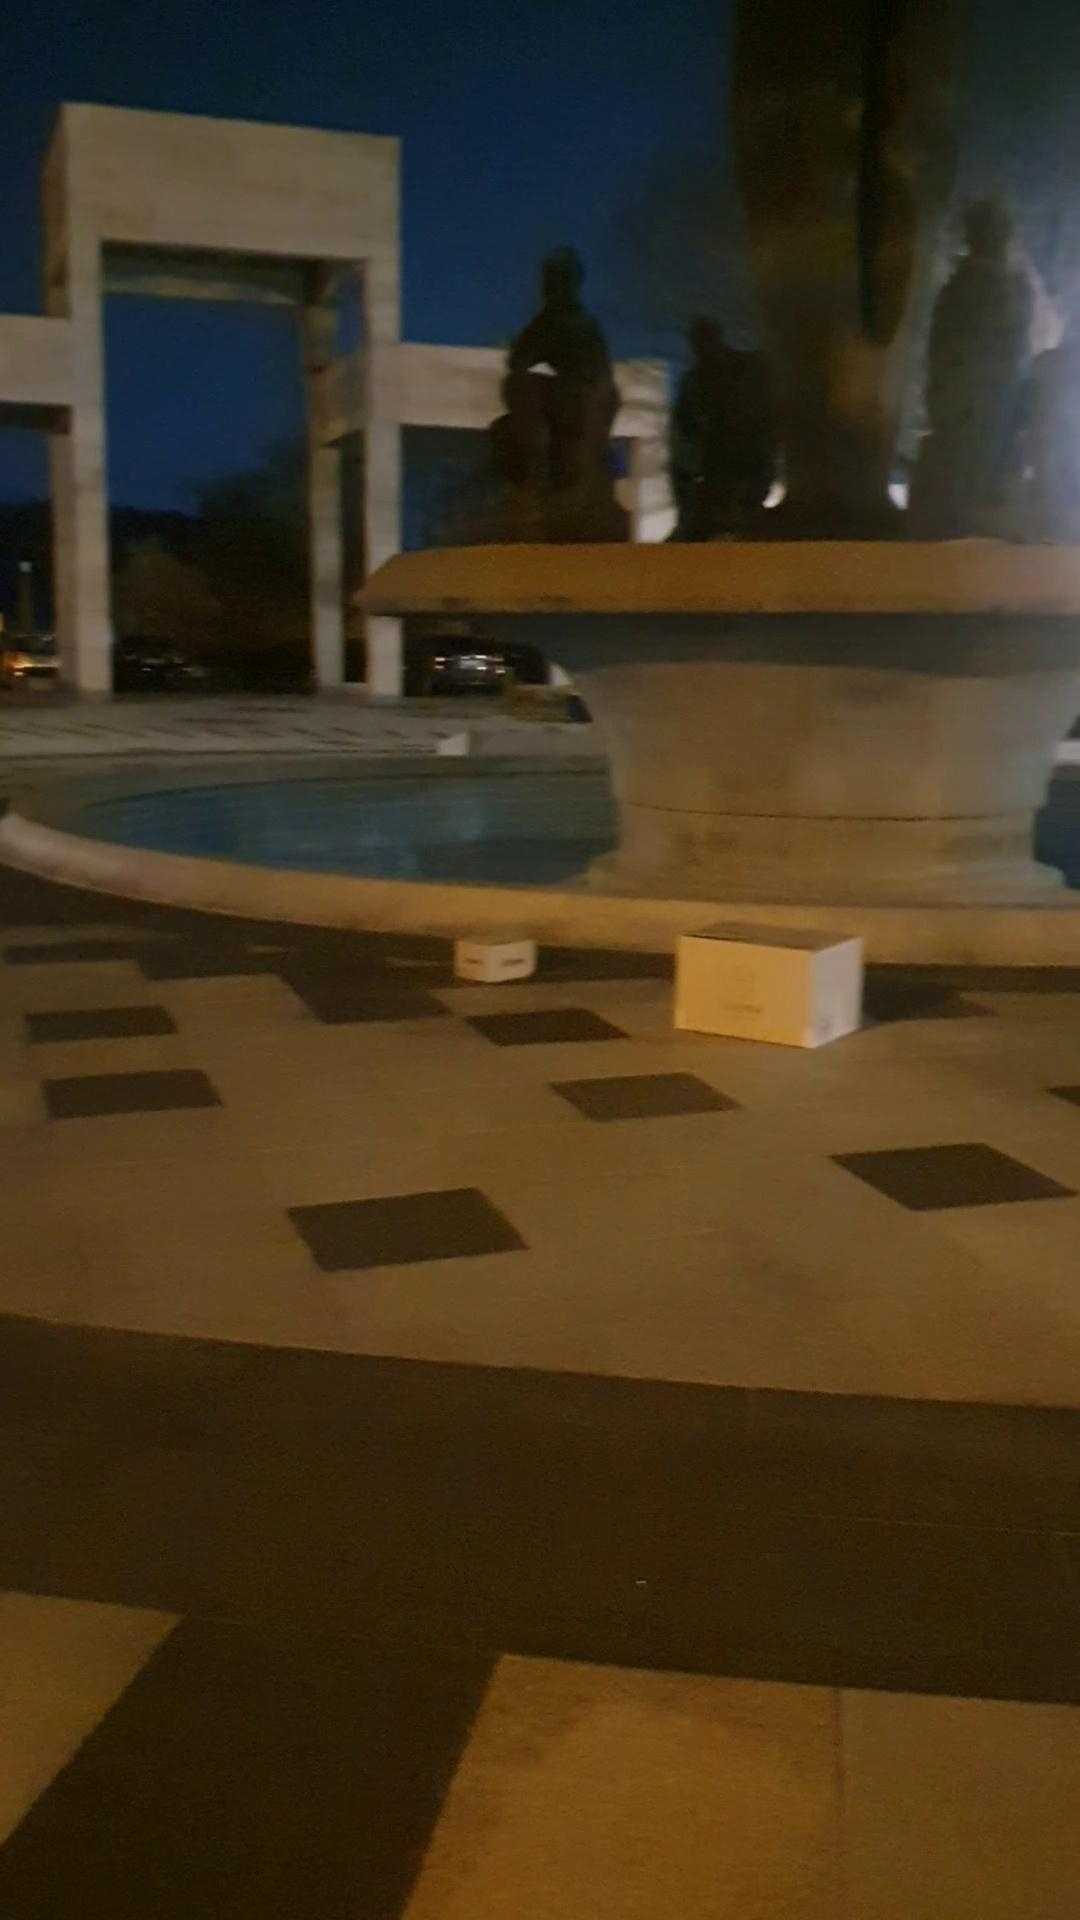Box: (676, 905, 872, 1055), (436, 923, 549, 998)
